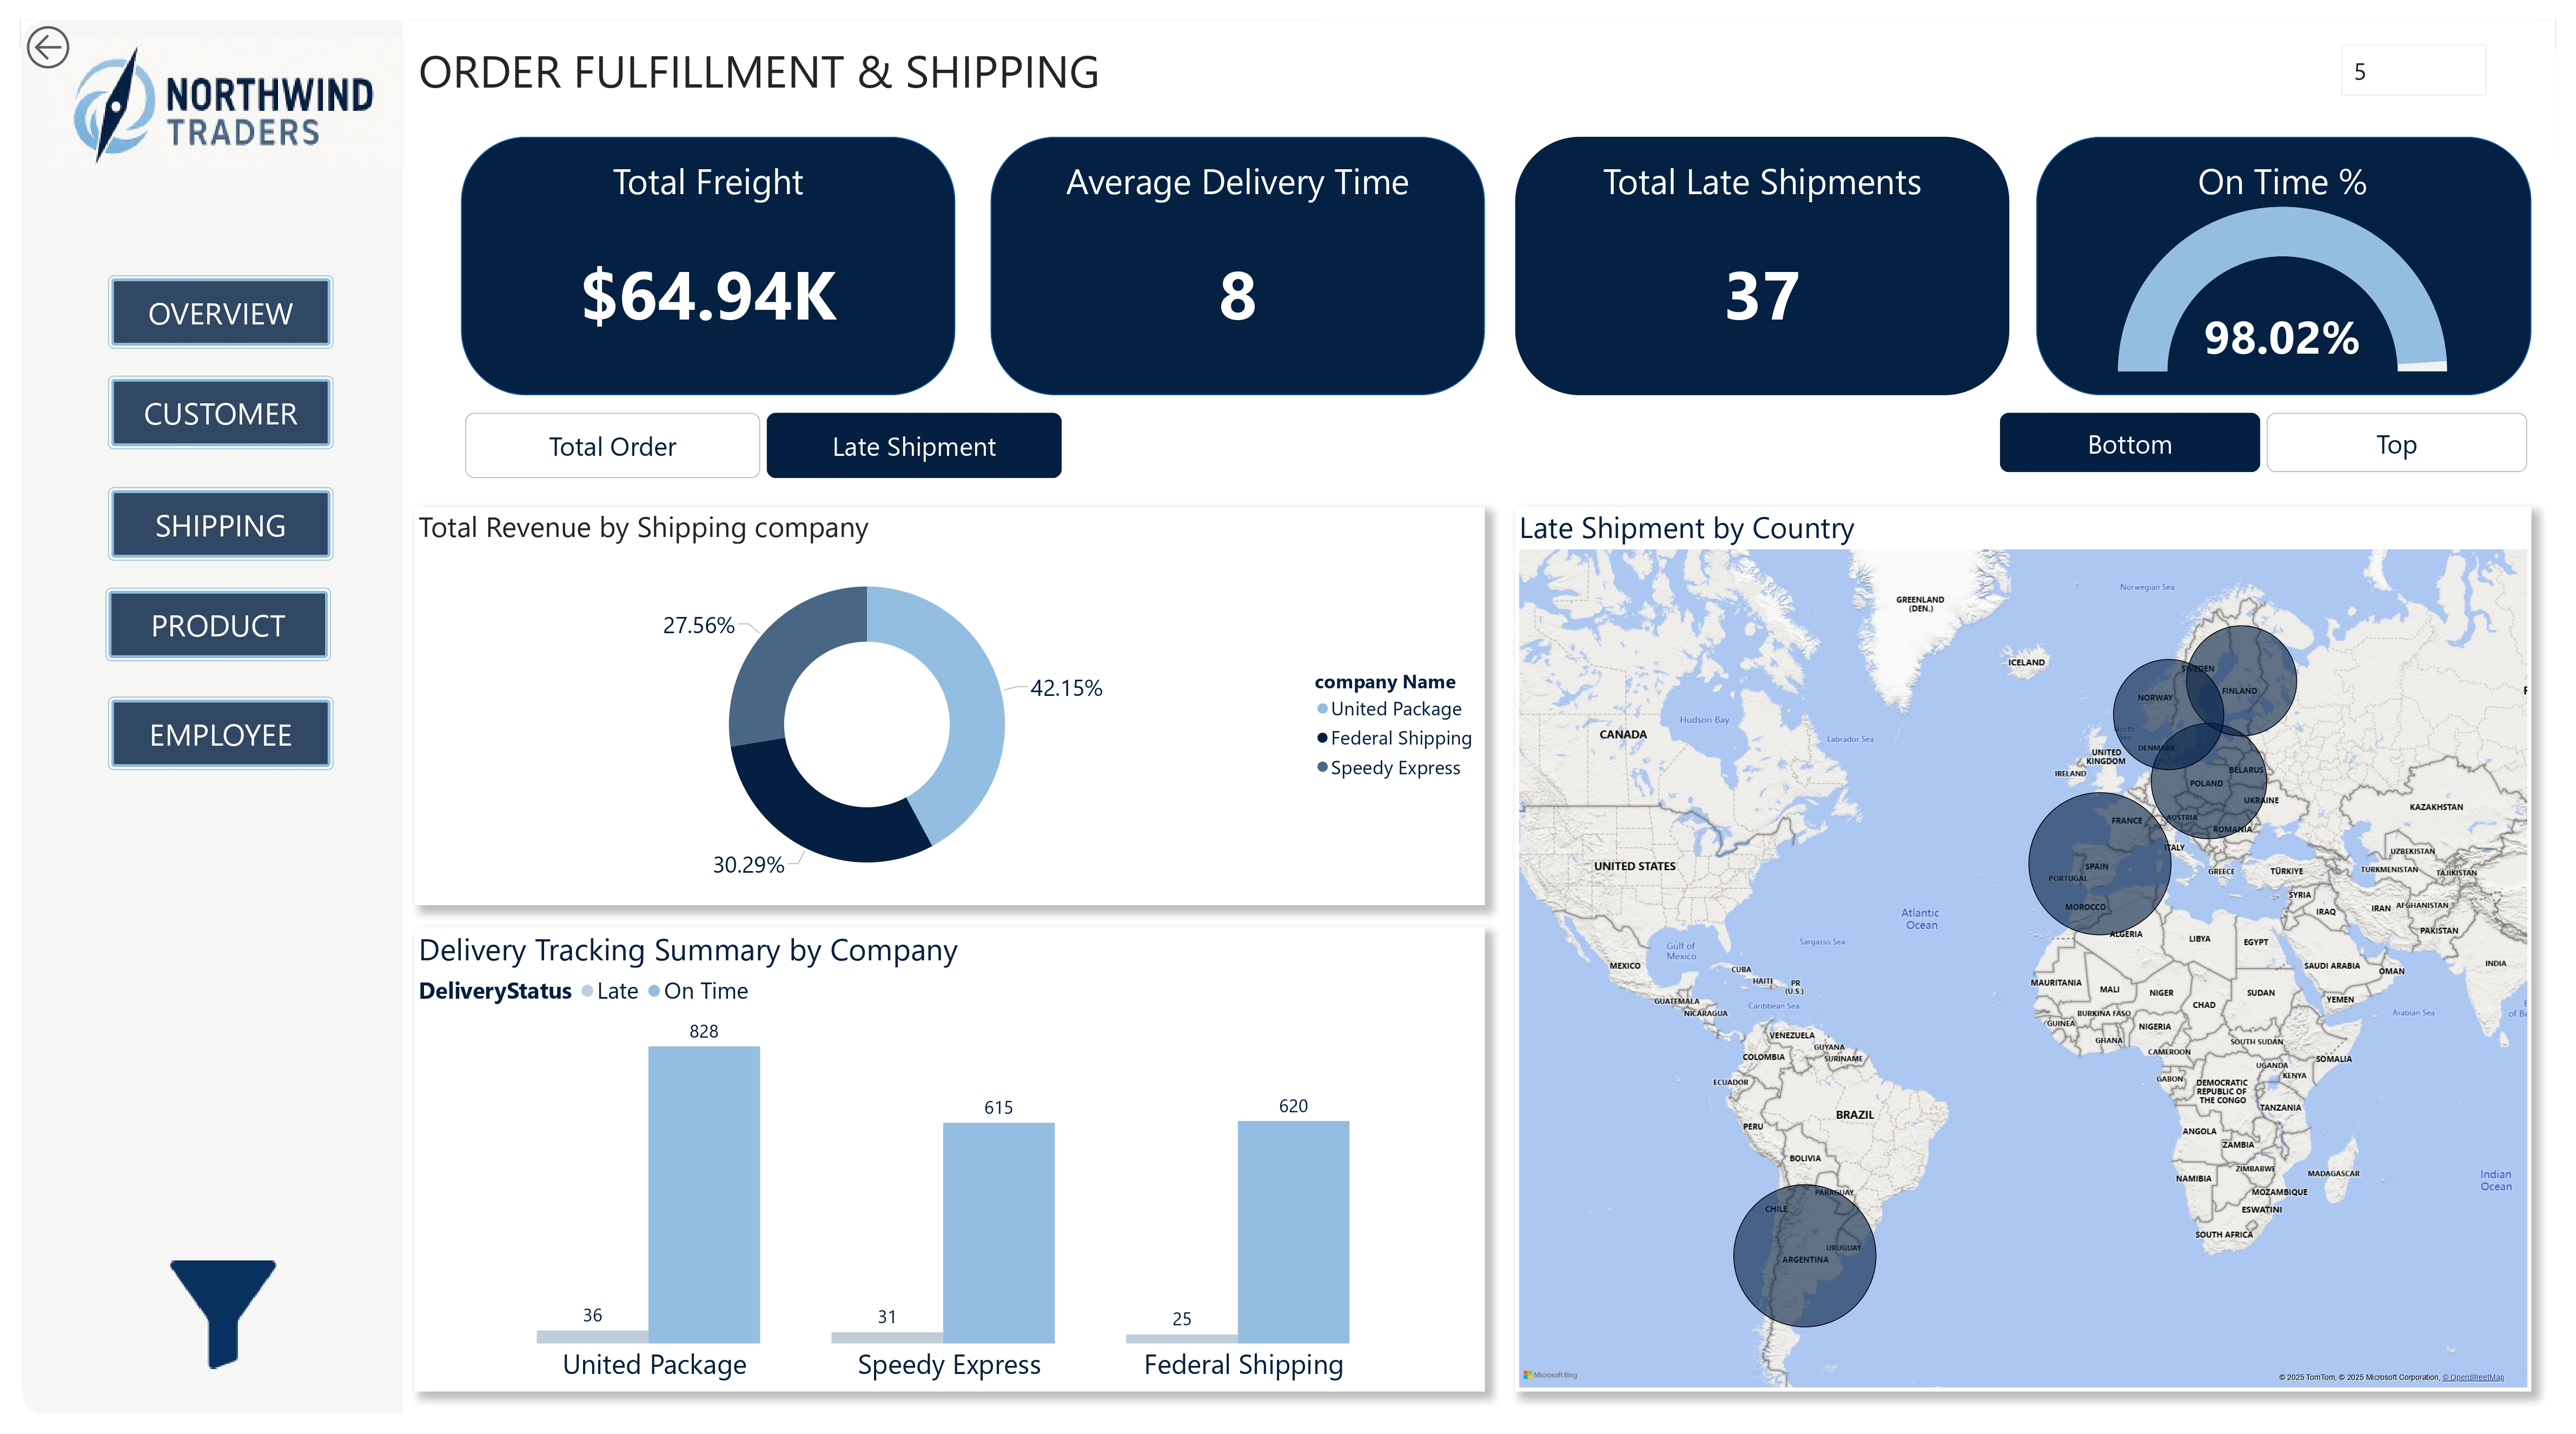

The page's visual inventory and layout, read from the dashboard file:
{"tool":"powerbi","page":{"name":"Order Fulfillment and Shipping","canvas":[3000,1650],"ordinal":11},"visuals":[{"type":"shape","box":[521,138.3,585.3,305.5],"z":0},{"type":"image","box":[142.8,1463.5,196.2,138.3],"z":0,"group":"g1"},{"type":"shape","box":[1148.2,138.3,585.3,305.5],"z":1000},{"type":"shape","box":[1768.9,138.3,585.3,305.5],"z":2000},{"type":"shape","box":[2386.4,138.3,585.3,305.5],"z":3000},{"type":"textbox","box":[466.3,0,868.4,106.1],"z":4000},{"type":"card","title":"Average Delivery Time","fields":{"Values":["Logistics.Average Delivery Time"]},"box":[1148.2,160.8,585.3,260.5],"z":5000},{"type":"card","title":"Total Freight","fields":{"Values":["Logistics.Total Freight"]},"box":[521,160.8,585.3,260.5],"z":6000},{"type":"card","title":"Total Late Shipments","fields":{"Values":["Logistics.Late Shipments"]},"box":[1768.9,160.8,585.3,260.5],"z":7000},{"type":"map","fields":{"Size":["_Rank.Rank Country by Late Order"],"Category":["customers.Country"]},"box":[1768.9,575.7,1202.8,1048.5],"z":8000},{"type":"slicer","fields":{"Values":["Top N Parameter.Top N Parameter"]},"box":[2733.7,19.3,205.8,86.8],"z":9000},{"type":"advancedSlicerVisual","fields":{"Values":["TopBottom.Value"]},"box":[2338.1,459.9,633.6,80.4],"z":10000},{"type":"advancedSlicerVisual","fields":{"Values":["Country Parameter.Country Parameter"]},"box":[521,459.9,717.2,86.8],"z":11000},{"type":"clusteredColumnChart","title":"Delivery Tracking Summary by Company","fields":{"Series":["order_details.DeliveryStatus"],"Y":["CountNonNull(order_details.Order ID)"],"Category":["shippers.company Name"]},"box":[466.3,1074.2,1267.2,550],"z":12000},{"type":"donutChart","title":"Total Revenue by Shipping company","fields":{"Category":["shippers.company Name"],"Y":["Revenue.Total Revenue"]},"box":[466.3,575.7,1267.2,472.8],"z":13000},{"type":"gauge","fields":{"Y":["Logistics.On Time %"]},"box":[2425,160.8,504.9,260.5],"z":15000},{"type":"actionButton","box":[0,0,99.7,64.3],"z":16000},{"type":"image","box":[726.2,653.4,132.3,86.2],"z":17000},{"type":"actionButton","box":[102.9,302.3,266.9,86.8],"z":18000},{"type":"actionButton","box":[102.9,421.3,266.9,86.8],"z":19000},{"type":"actionButton","box":[102.9,553.2,266.9,86.8],"z":20000},{"type":"actionButton","box":[99.7,672.2,266.9,86.8],"z":21000},{"type":"actionButton","box":[102.9,800.8,266.9,86.8],"z":22000},{"type":"group","id":"g1","title":"Shipping Filter","box":[47.9,877.7,941.5,726.1],"z":23000}]}

Visuals, with their boxes in screenshot pixels (x1, y1, x2, y2):
shape: Rect(461, 137, 955, 395)
image: Rect(141, 1256, 307, 1373)
shape: Rect(991, 137, 1485, 395)
shape: Rect(1515, 137, 2010, 395)
shape: Rect(2037, 137, 2532, 395)
textbox: Rect(414, 20, 1148, 110)
"Average Delivery Time" card: Rect(991, 156, 1485, 376)
"Total Freight" card: Rect(461, 156, 955, 376)
"Total Late Shipments" card: Rect(1515, 156, 2010, 376)
map - _Rank.Rank Country by Late Order x customers.Country: Rect(1515, 507, 2532, 1392)
slicer - Top N Parameter.Top N Parameter: Rect(2330, 37, 2505, 110)
advancedSlicerVisual - TopBottom.Value: Rect(1996, 409, 2532, 476)
advancedSlicerVisual - Country Parameter.Country Parameter: Rect(461, 409, 1067, 482)
"Delivery Tracking Summary by Company" clusteredColumnChart: Rect(414, 927, 1485, 1392)
"Total Revenue by Shipping company" donutChart: Rect(414, 507, 1485, 906)
gauge - Logistics.On Time %: Rect(2070, 156, 2496, 376)
actionButton: Rect(21, 20, 104, 75)
image: Rect(634, 572, 746, 645)
actionButton: Rect(107, 276, 333, 349)
actionButton: Rect(107, 376, 333, 449)
actionButton: Rect(107, 487, 333, 561)
actionButton: Rect(104, 588, 330, 661)
actionButton: Rect(107, 696, 333, 770)
"Shipping Filter" group: Rect(61, 761, 857, 1375)
